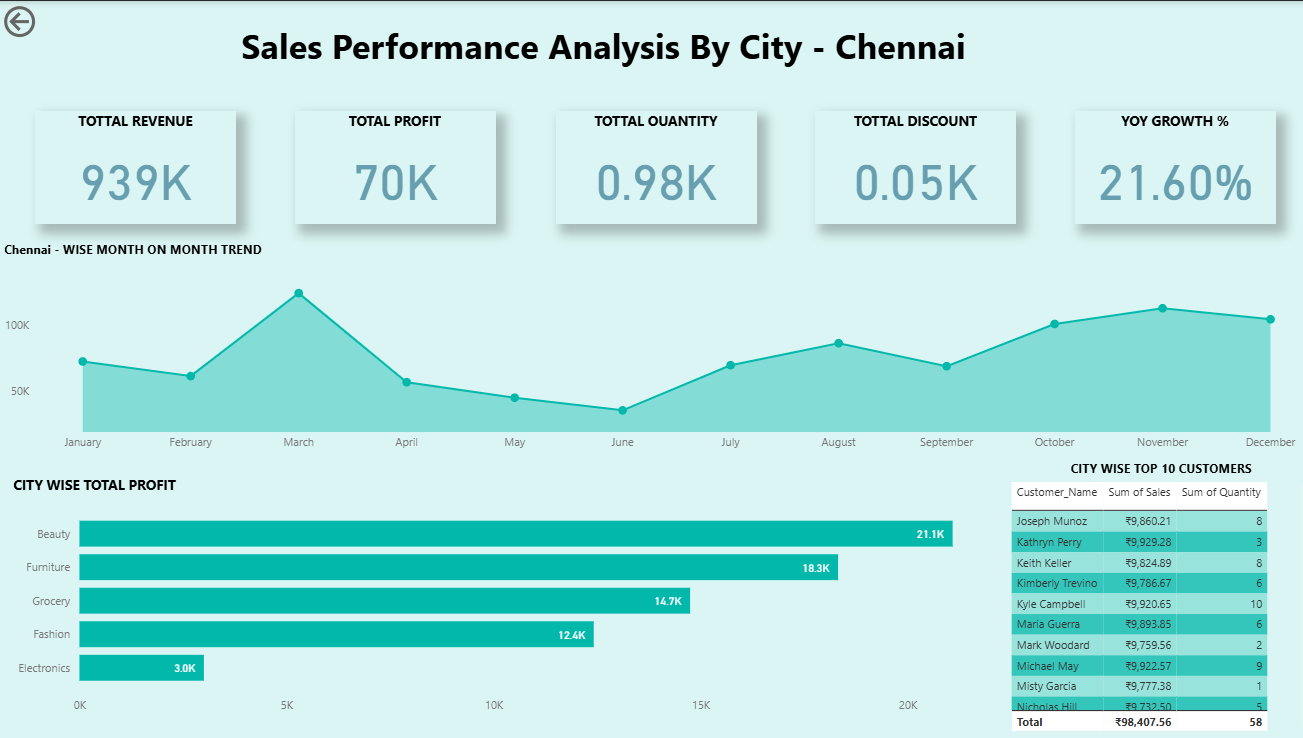

The dashboard page shown, as its layout file describes it:
{"tool":"powerbi","page":{"name":"Drill Through - City","canvas":[1280,720],"ordinal":1},"visuals":[{"type":"actionButton","box":[0,0,100,40],"z":0},{"type":"card","title":"TOTTAL REVENUE","fields":{"Values":["Company_Sales_Data.Total_Revenue"]},"box":[34.8,106,195,110],"z":0,"group":"g1"},{"type":"card","title":"YOY GROWTH %","fields":{"Values":["Company_Sales_Data.YOY_Growth"]},"box":[1043.6,106,195,110],"z":1000,"group":"g1"},{"type":"stackedAreaChart","fields":{"Y":["Company_Sales_Data.Total_Revenue"],"Category":["Calendar.Month Name"]},"box":[0,233.6,1280.5,212],"z":1000},{"type":"card","title":"TOTTAL OUANTITY","fields":{"Values":["Company_Sales_Data.Total_Quantity"]},"box":[539.2,106,195,110],"z":2000,"group":"g1"},{"type":"clusteredBarChart","title":"CITY WISE TOTAL PROFIT","fields":{"Category":["Company_Sales_Data.Category"],"Y":["Company_Sales_Data.Total_Profit"]},"box":[8.3,460.5,970.7,240.2],"z":2000},{"type":"group","id":"g1","title":"Group 1","box":[34.8,106,1204.3,109.3],"z":3000},{"type":"card","title":"TOTAL PROFIT","fields":{"Values":["Company_Sales_Data.Total_Profit"]},"box":[287,106,195,110],"z":3000,"group":"g1"},{"type":"textbox","box":[230.3,19.9,757,53],"z":4000},{"type":"card","title":"TOTTAL DISCOUNT","fields":{"Values":["Company_Sales_Data.TOTAL_DISCOUNT"]},"box":[791.4,106,195,110],"z":4000,"group":"g1"},{"type":"tableEx","title":"CITY WISE TOP 10 CUSTOMERS","fields":{"Values":["Company_Sales_Data.Customer_Name","Sum(Company_Sales_Data.Sales)","Sum(Company_Sales_Data.Quantity)"]},"box":[977,446,302.4,268.3],"z":5000}]}

Visuals, with their boxes in screenshot pixels (x1, y1, x2, y2), scaled from the page's 1280x720 canvas onto the 1303x738 screenshot:
actionButton: select_region(0, 0, 102, 41)
"TOTTAL REVENUE" card: select_region(35, 109, 234, 221)
"YOY GROWTH %" card: select_region(1062, 109, 1261, 221)
stackedAreaChart - Company_Sales_Data.Total_Revenue x Calendar.Month Name: select_region(0, 239, 1302, 457)
"TOTTAL OUANTITY" card: select_region(549, 109, 747, 221)
"CITY WISE TOTAL PROFIT" clusteredBarChart: select_region(8, 472, 997, 718)
"Group 1" group: select_region(35, 109, 1261, 221)
"TOTAL PROFIT" card: select_region(292, 109, 491, 221)
textbox: select_region(234, 20, 1005, 75)
"TOTTAL DISCOUNT" card: select_region(806, 109, 1004, 221)
"CITY WISE TOP 10 CUSTOMERS" tableEx: select_region(995, 457, 1302, 732)
